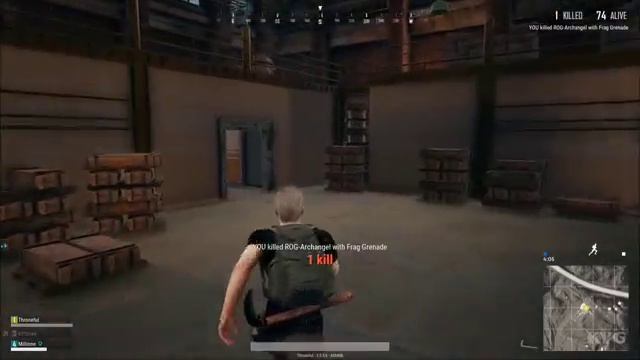Player: (225, 175, 388, 328)
